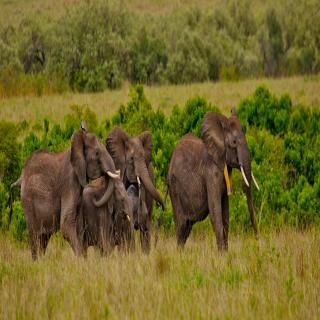Elephant: (7, 127, 117, 264), (162, 106, 260, 259), (104, 117, 165, 257), (75, 174, 137, 278)
